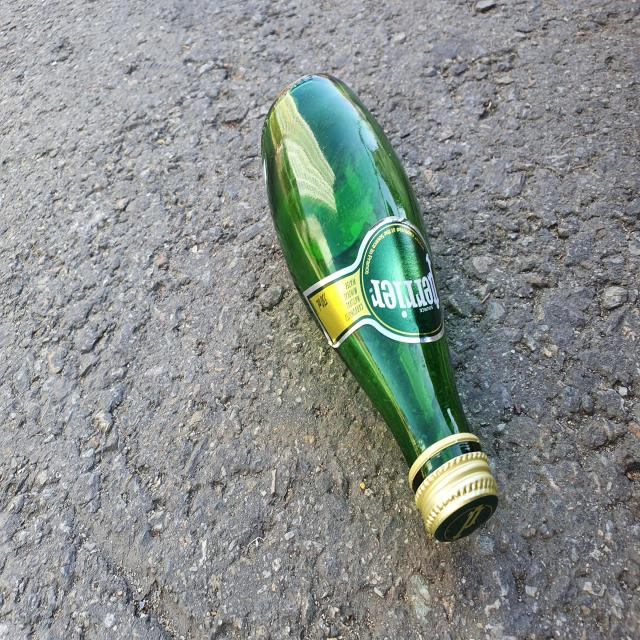glass: (262, 74, 499, 542)
